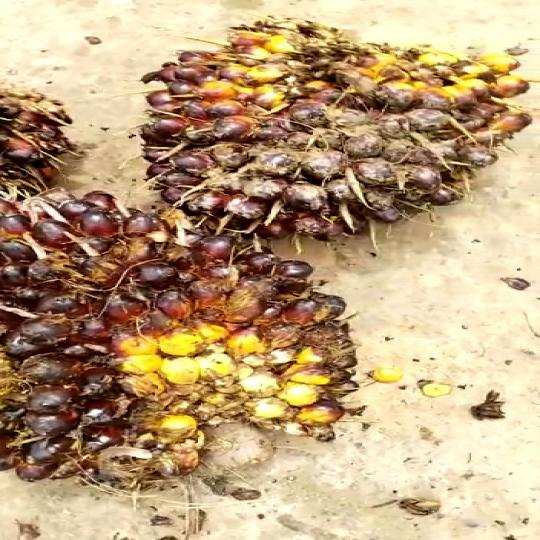kurang masak: (0, 195, 393, 521), (111, 22, 540, 244)
